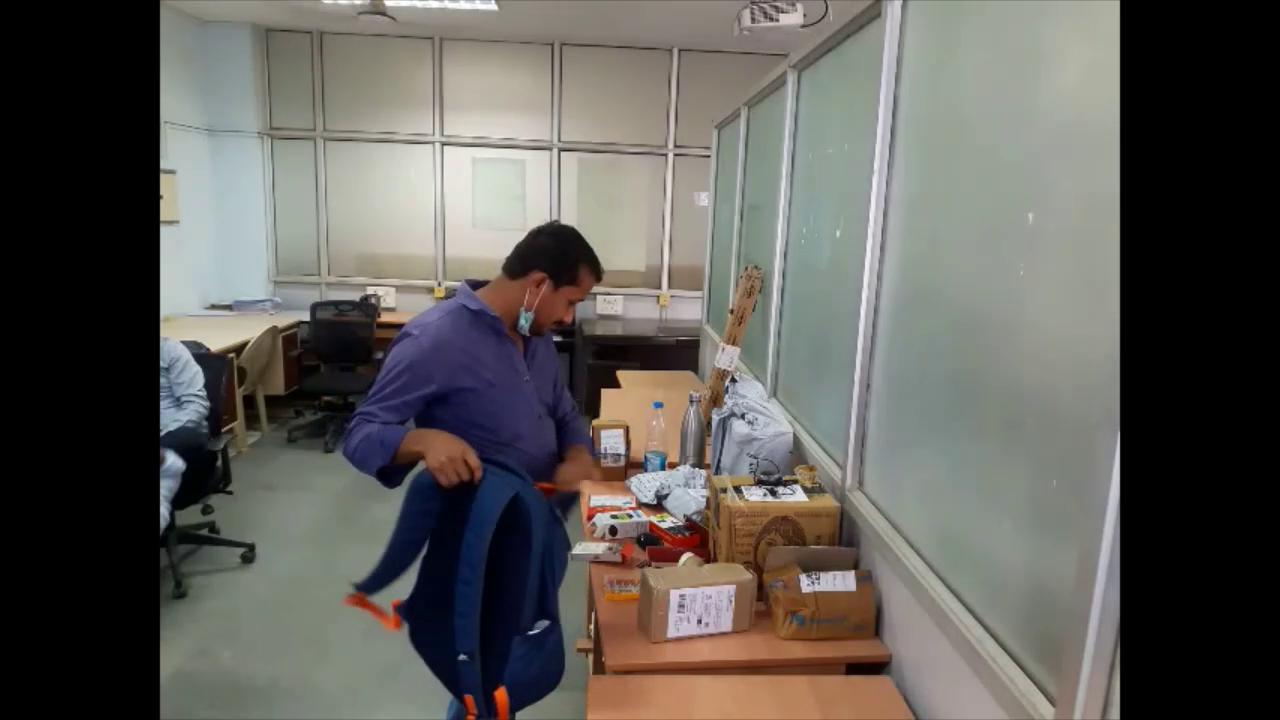Normal: (330, 214, 618, 720)
